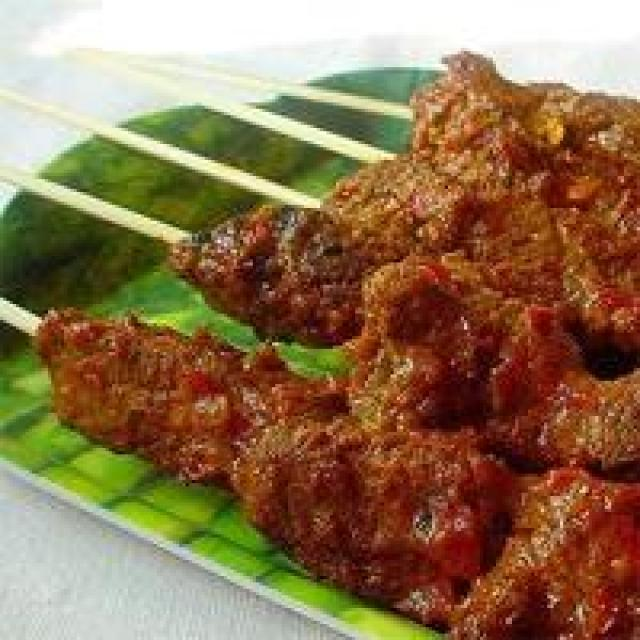Sate: (13, 40, 608, 597)
